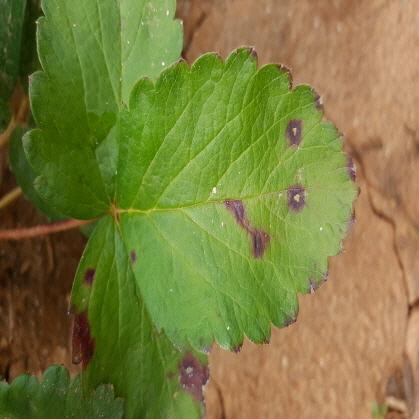Leaf Spot: (116, 45, 361, 355), (68, 210, 212, 418)
